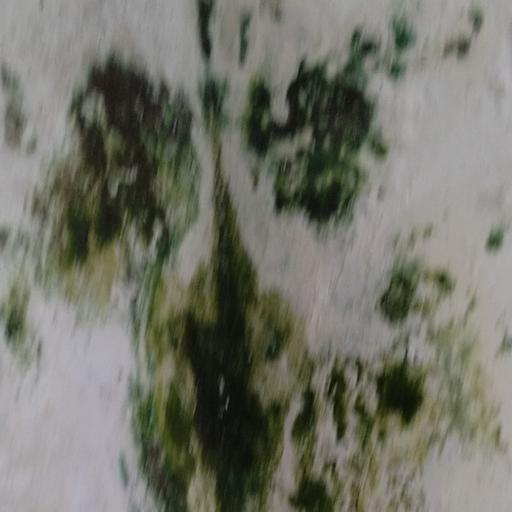algae: (56, 43, 482, 512)
